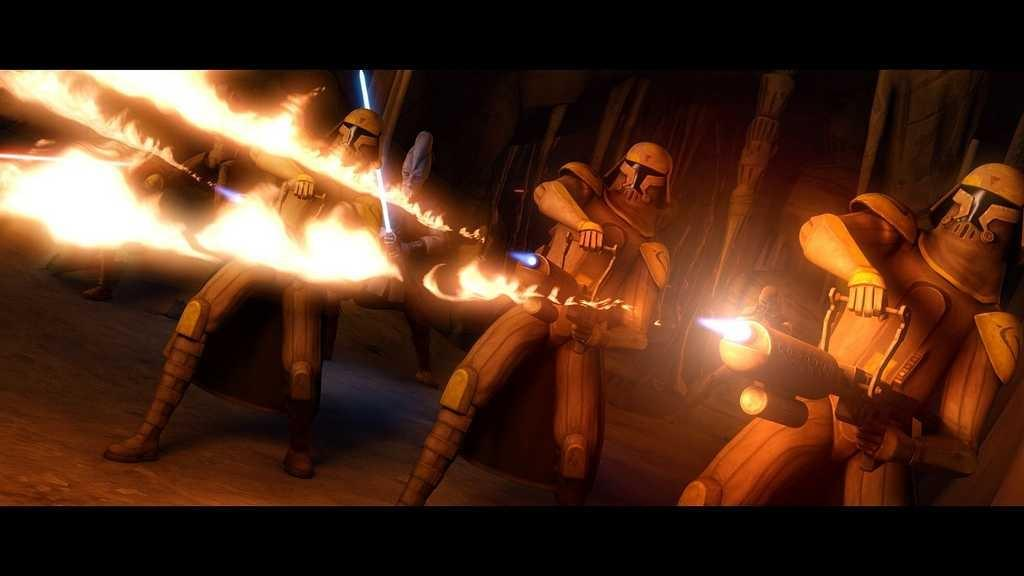fire: (117, 70, 307, 141), (6, 164, 157, 244), (233, 220, 384, 279), (13, 76, 86, 114), (456, 266, 537, 299), (709, 314, 741, 336)
